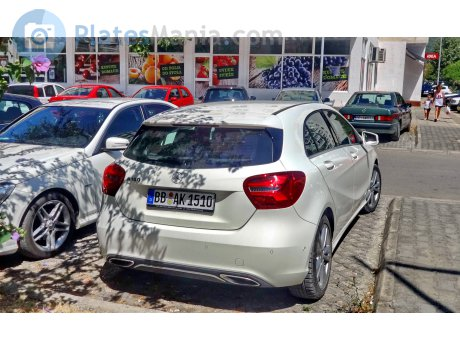License Plates: (155, 190, 214, 206)
